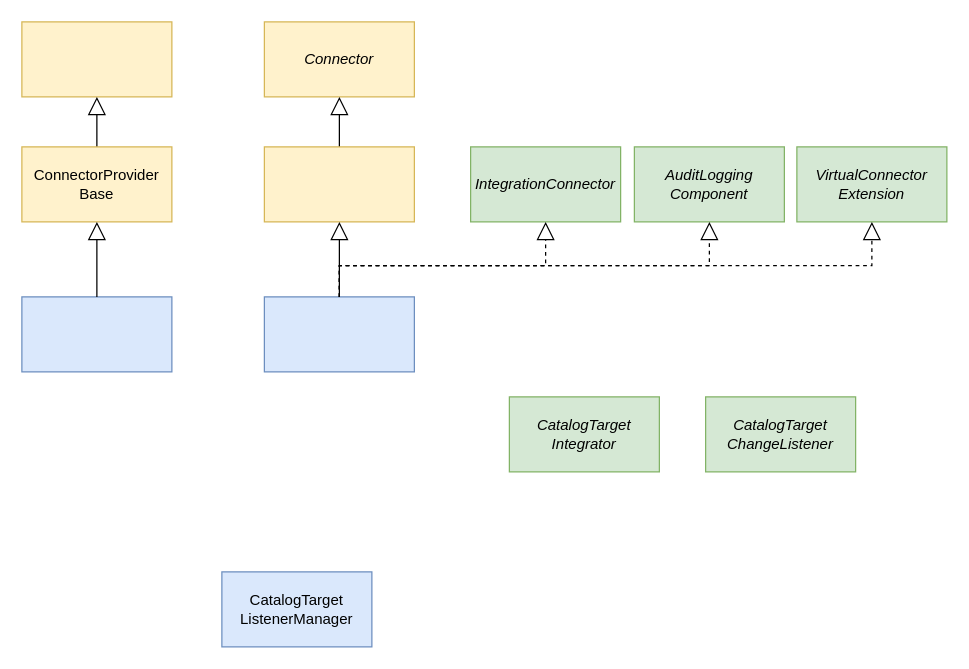
The diagram is 969 pixels wide and 669 high, and some of its shapes have lost their labels. Here are the shapes that lost their labels. From the top down, the box of each, then its label:
(21, 21, 172, 97): ConnectorProvider
(263, 146, 414, 222): Connector Base
(21, 296, 172, 372): IntegrationConnector Provider
(263, 296, 414, 372): IntegrationConnector Base
